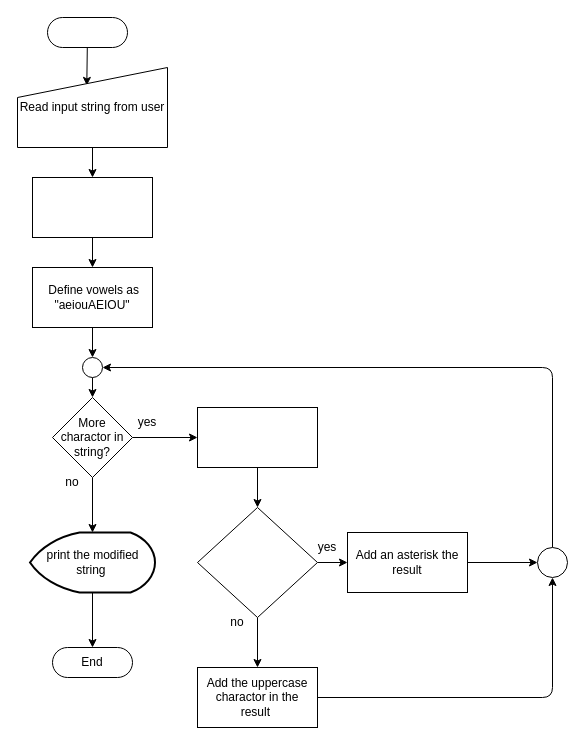
Image size: 585x745. Some labels were removed from this diagram. The shapes that lost their labels are listed below. From the top down, each one's centre as x and y in pixels, then its label:
At point 87,32: "Start".
At point 92,207: "Intitialize an empty string for the result".
At point 257,437: "Convert Charactor to Uppercase".
At point 257,562: "Is charactor as vowels?".
